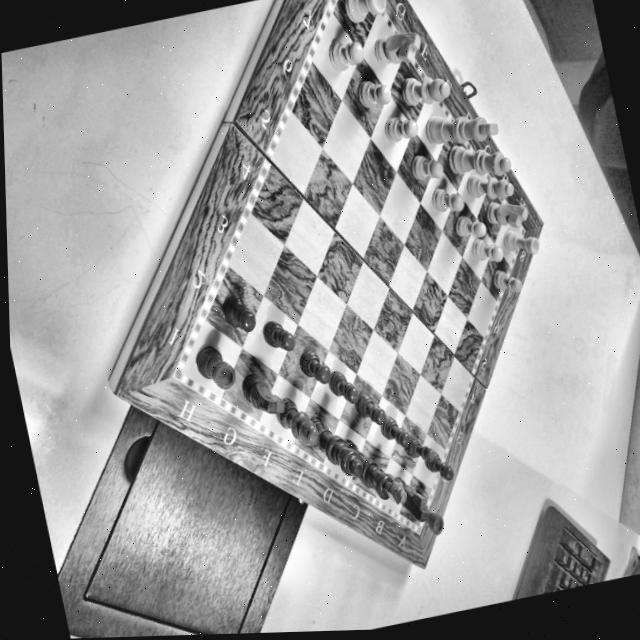black-bishop: (268, 388, 323, 453), (371, 454, 409, 509)
black-king: (334, 430, 403, 515)
black-knight: (237, 364, 289, 421), (390, 467, 429, 529)
black-pawn: (214, 284, 260, 339), (254, 310, 299, 359), (294, 342, 334, 388), (349, 385, 389, 429), (322, 364, 362, 408), (418, 442, 456, 486), (375, 408, 413, 452), (399, 429, 437, 466)
black-queen: (301, 405, 365, 486)
black-rook: (190, 336, 239, 394), (409, 485, 447, 541)
white-bishop: (396, 66, 454, 111), (463, 167, 518, 203)
white-king: (420, 98, 503, 152)
white-knight: (368, 23, 427, 75), (482, 192, 532, 232)
white-pawn: (320, 29, 367, 76), (351, 70, 395, 112), (378, 109, 422, 146), (428, 180, 467, 216), (407, 148, 446, 183), (488, 262, 525, 297), (451, 207, 488, 241), (469, 232, 505, 266)
white-queen: (442, 131, 514, 185)
white-rook: (499, 222, 543, 259), (338, 0, 392, 26)
